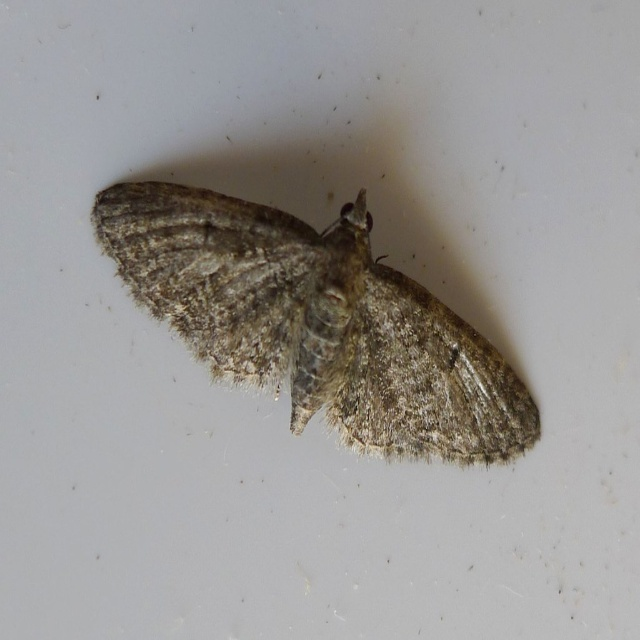Moths and butterflies: (90, 180, 544, 471)
